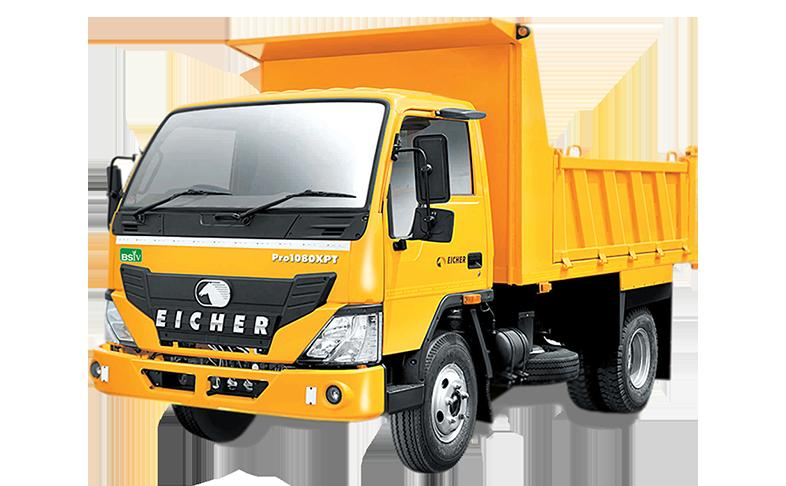truck: (90, 17, 696, 474)
